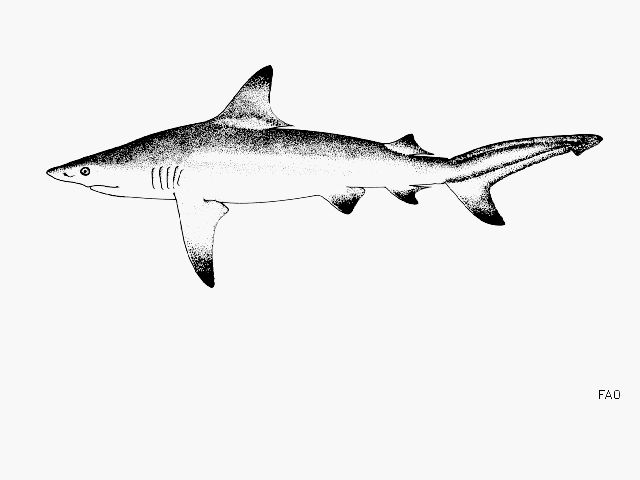fish: (47, 65, 603, 289)
